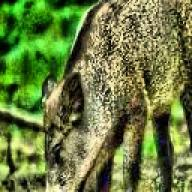boar: (37, 0, 192, 192)
